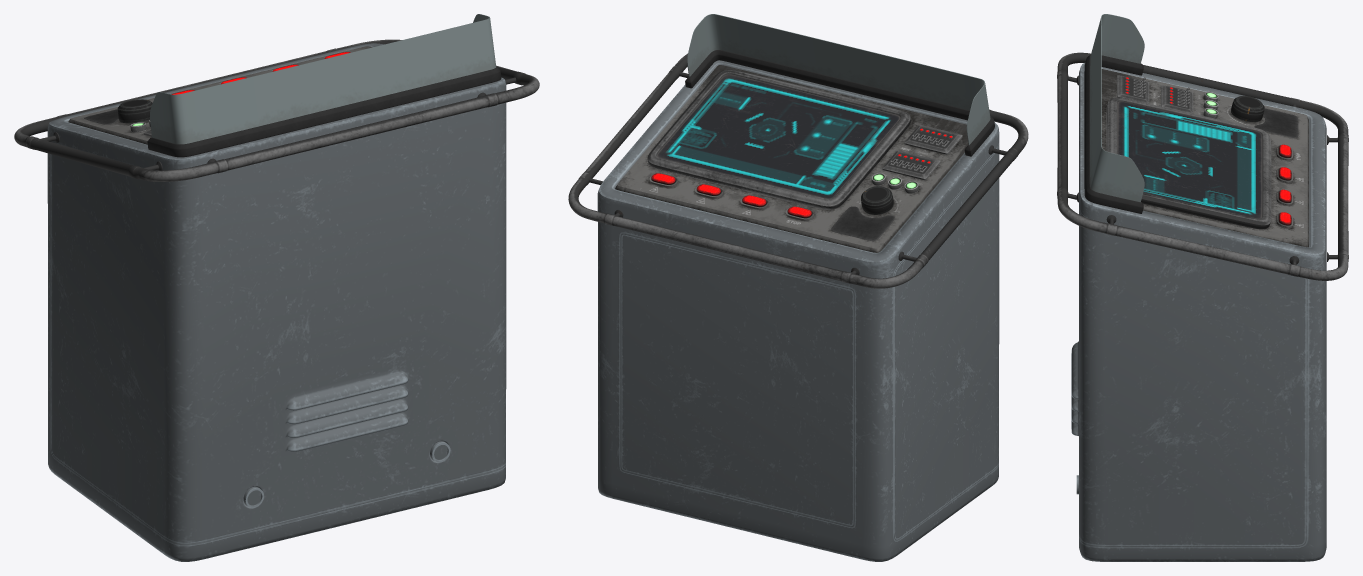
The model's file is control_panel.glb.
3 views of the same model, side by side, from view 1: azimuth 30°, elevation 25°; view 2: azimuth 150°, elevation 25°; view 3: azimuth 270°, elevation 25° (orthographic). The views are drawn at different scales.
Visible parts, largest first — view 1: pultBase_low__0, pultSteklo_low__0, pultTruba_low__0, pultStekloHold_low__0, pultRollButton_low__0; view 2: pultBase_low__0, pultLcd_low__0, pultSteklo_low__0, pultTruba_low__0, pultStekloHold_low__0, pultMat_low__0, pultTumblerPanel_low001__0, pultTumblerPanel_low__0, pultRollButton_low__0; view 3: pultBase_low__0, pultLcd_low__0, pultTruba_low__0, pultSteklo_low__0, pultStekloHold_low__0, pultMat_low__0, pultTumblerPanel_low__0, pultTumblerPanel_low001__0, pultRollButton_low__0.
Boxes of the visible parts, x1,y1,x2,y2 form: pultBase_low__0: (47, 43, 506, 561); pultSteklo_low__0: (150, 14, 496, 144); pultTruba_low__0: (14, 39, 539, 181); pultStekloHold_low__0: (147, 66, 501, 157); pultRollButton_low__0: (117, 99, 152, 123); pultBase_low__0: (597, 60, 999, 561); pultLcd_low__0: (647, 69, 910, 209); pultSteklo_low__0: (687, 14, 990, 145); pultTruba_low__0: (568, 53, 1028, 288); pultStekloHold_low__0: (685, 50, 994, 156); pultMat_low__0: (831, 206, 894, 241); pultTumblerPanel_low001__0: (882, 150, 940, 180); pultTumblerPanel_low__0: (904, 125, 962, 154); pultRollButton_low__0: (861, 186, 893, 214); pultBase_low__0: (1071, 63, 1326, 561); pultLcd_low__0: (1106, 97, 1271, 229); pultTruba_low__0: (1057, 52, 1348, 280); pultSteklo_low__0: (1090, 14, 1144, 202); pultStekloHold_low__0: (1084, 54, 1143, 213); pultMat_low__0: (1254, 108, 1298, 138); pultTumblerPanel_low__0: (1117, 75, 1149, 103); pultTumblerPanel_low001__0: (1161, 85, 1193, 113); pultRollButton_low__0: (1231, 95, 1264, 122).
Bounding box in the file's own units: 1.08 × 1.21 × 0.7795.
Materials: 1 (1 with a texture image).
